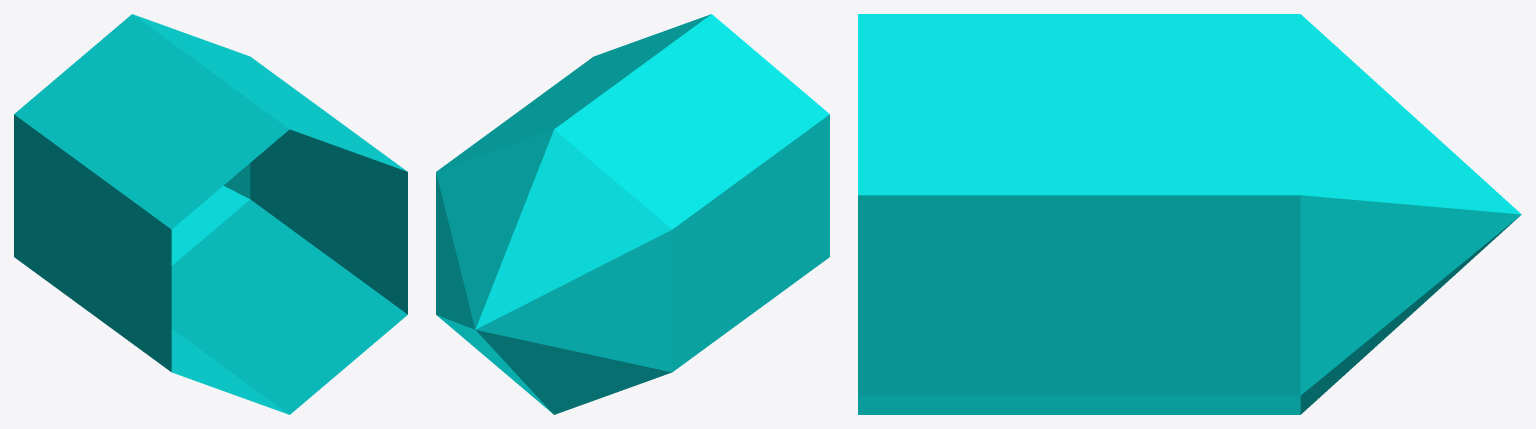
File: Crystal.fbx
The picture shows the model from 3 angles, left to right: view 1: azimuth 30°, elevation 25°; view 2: azimuth 150°, elevation 25°; view 3: azimuth 270°, elevation 25°; orthographic projection. The views are drawn at different scales.
Parts seen in each view (by area): view 1: Cylinder; view 2: Cylinder; view 3: Cylinder.
Part boxes in pixels (left/top/right/bottom): Cylinder: left=14, top=14, right=407, bottom=414; Cylinder: left=436, top=14, right=829, bottom=414; Cylinder: left=858, top=14, right=1521, bottom=414.
Size of the model in its own units: 17321 by 20000 by 30000.
